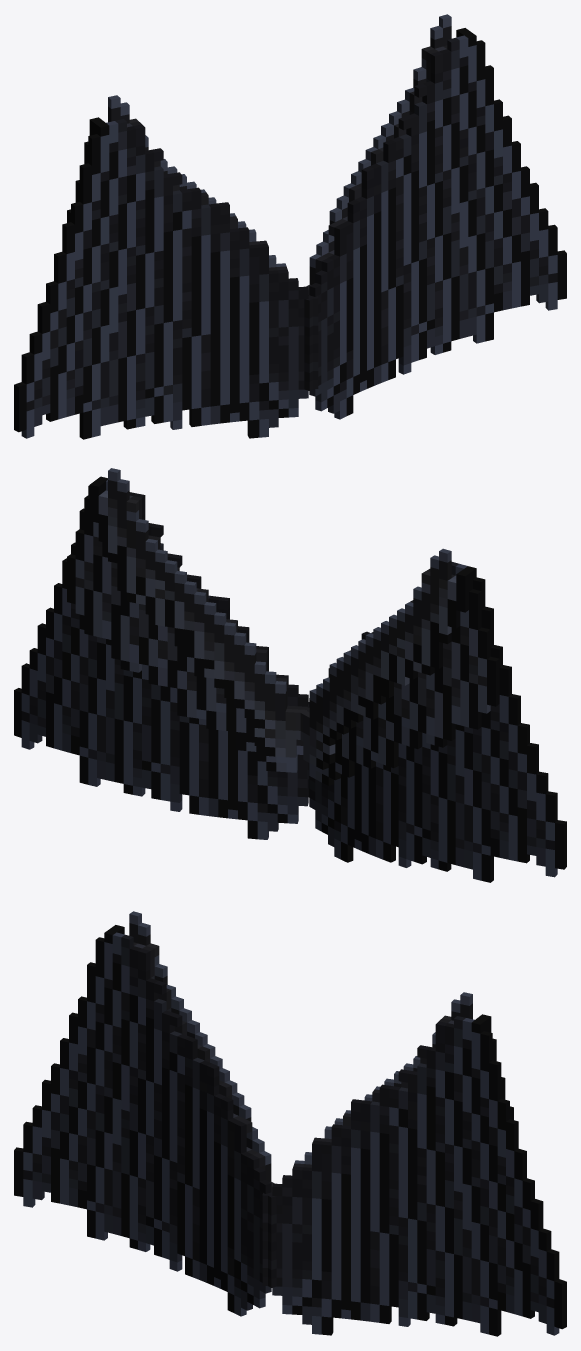
File: crow_wings.glb
3 views of the same model, one above another, from view 1: azimuth 30°, elevation 25°; view 2: azimuth 150°, elevation 25°; view 3: azimuth 330°, elevation 25° (orthographic).
Visible parts, largest first — view 1: Feathers.L, Feathers.R; view 2: Feathers.R, Feathers.L; view 3: Feathers.R, Feathers.L.
Boxes of the visible parts, left/top/right/bottom form: Feathers.L: left=14, top=95, right=318, bottom=439; Feathers.R: left=304, top=14, right=566, bottom=419; Feathers.R: left=14, top=468, right=309, bottom=839; Feathers.L: left=297, top=548, right=566, bottom=882; Feathers.R: left=262, top=992, right=566, bottom=1336; Feathers.L: left=14, top=911, right=276, bottom=1316.
Bounding box in the file's own units: 1.99 × 1.22 × 0.2291.
